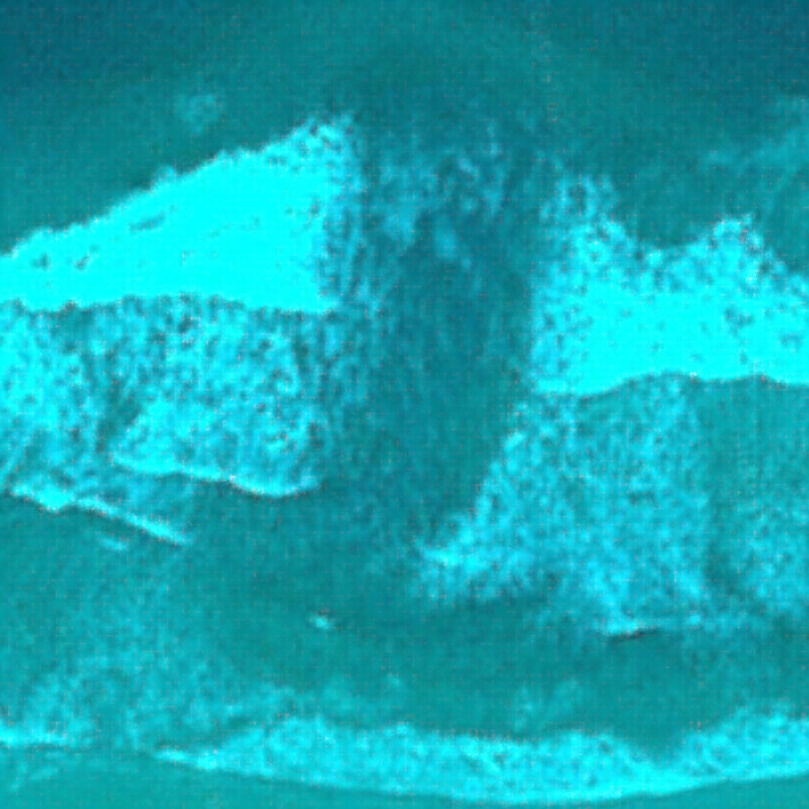rip_current: (217, 75, 571, 610)
